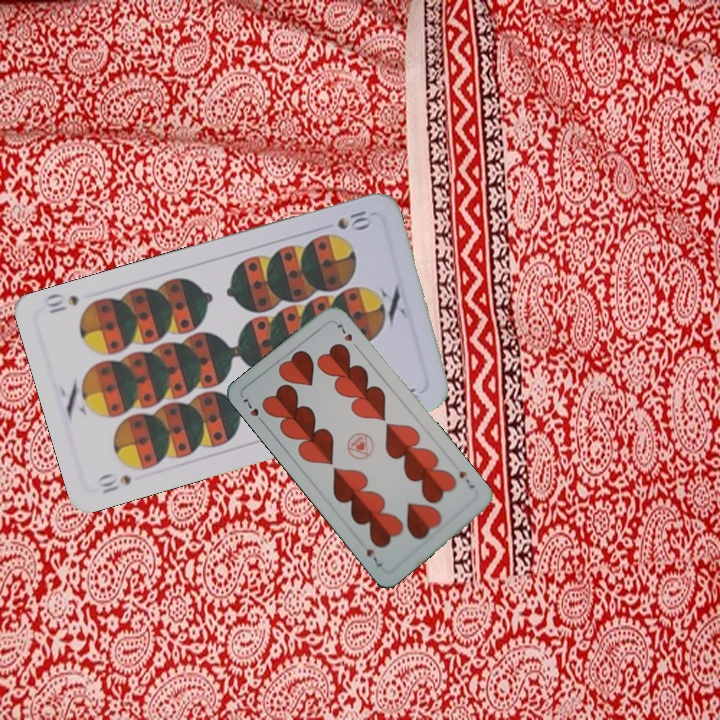H7: (238, 394, 268, 428), (455, 467, 477, 492)
S10: (333, 206, 375, 234), (93, 471, 134, 497)
